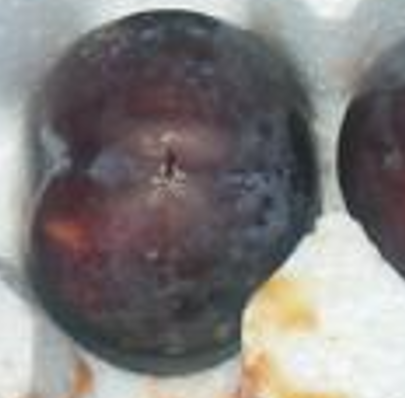plum_B: (23, 9, 324, 379)
